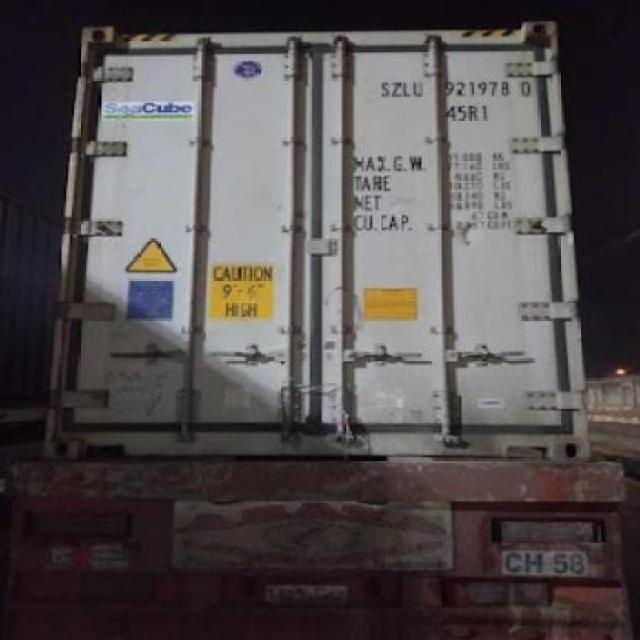ISO: (448, 101, 490, 122)
container_number: (385, 78, 532, 100)
